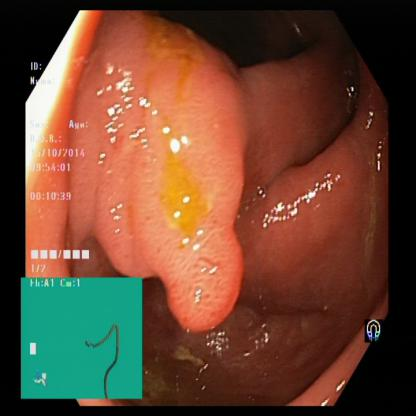Labels: (26, 50, 102, 279), (20, 276, 142, 400), (359, 311, 390, 345)
Polyps: (104, 17, 260, 334)
